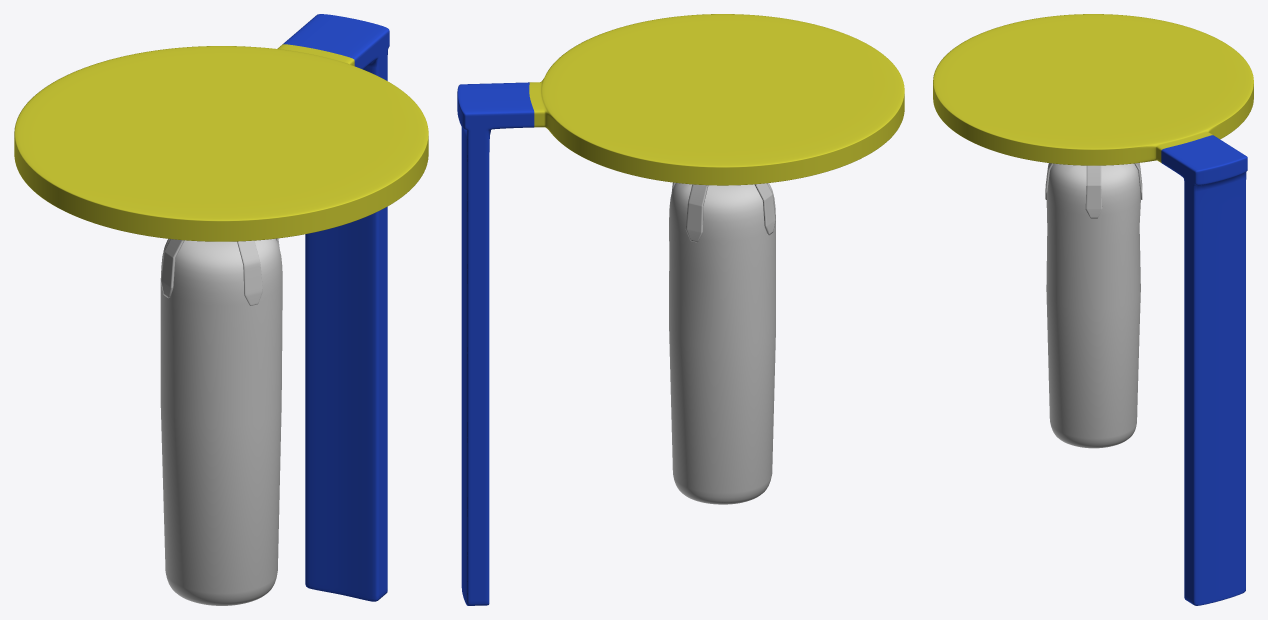
Rendered from punchingBag.fbx.
3 renders of one model, left to right at view 1: azimuth 30°, elevation 25°; view 2: azimuth 150°, elevation 25°; view 3: azimuth 270°, elevation 25°, orthographic. The views are drawn at different scales.
Visible parts, largest first — view 1: Base, Bag; view 2: Base, Bag; view 3: Base, Bag.
Part boxes in pixels (box(x1,y1,x2,y2)): Base: box(14, 14, 428, 601); Bag: box(160, 238, 282, 605); Base: box(457, 14, 904, 605); Bag: box(669, 182, 775, 504); Base: box(933, 14, 1253, 605); Bag: box(1045, 163, 1142, 448).
Bounding box in the file's own units: 931 × 1217 × 807.
